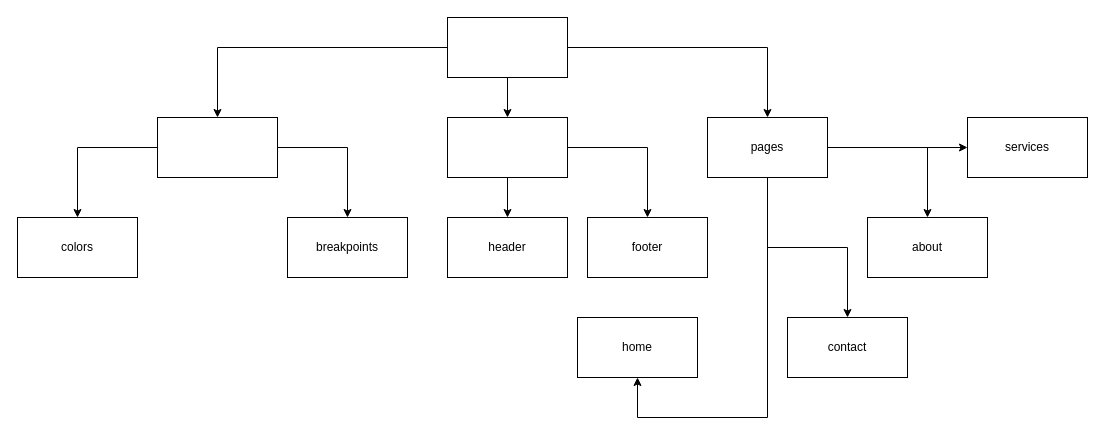
This 1105x443 diagram has some shape labels left out. Here are the shapes that lost their labels. From the top down, the box of each, then its label:
(446, 16, 568, 78): styles
(156, 116, 278, 178): defaults
(446, 116, 568, 178): components
